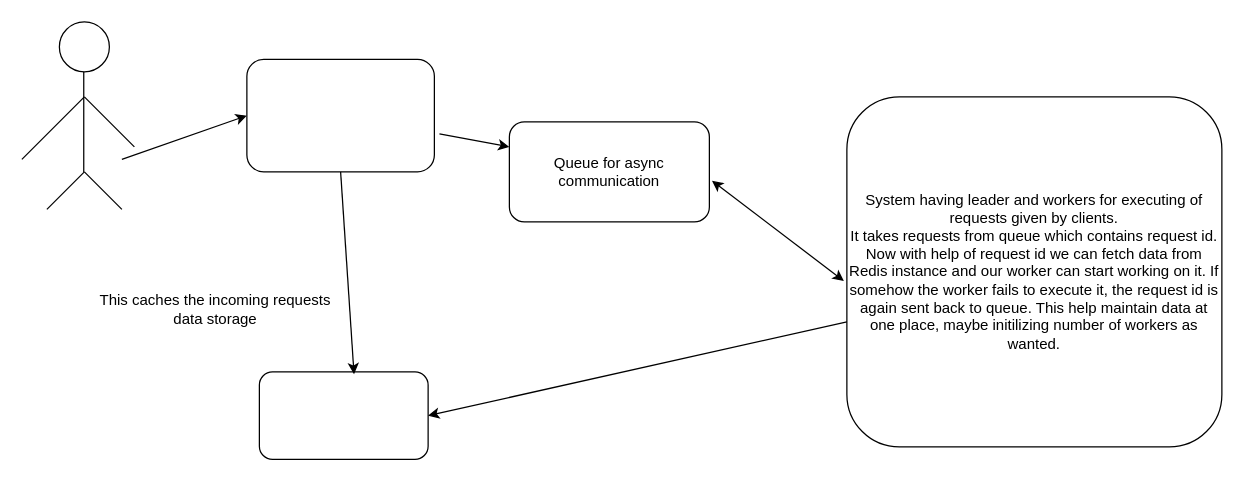
Image size: 1244x481. Some labels were removed from this diagram. The shapes that lost their labels are listed below. From the top down, each one's centre as x and y in pixels, then its label:
point 340,115: Server
point 343,415: Redis
